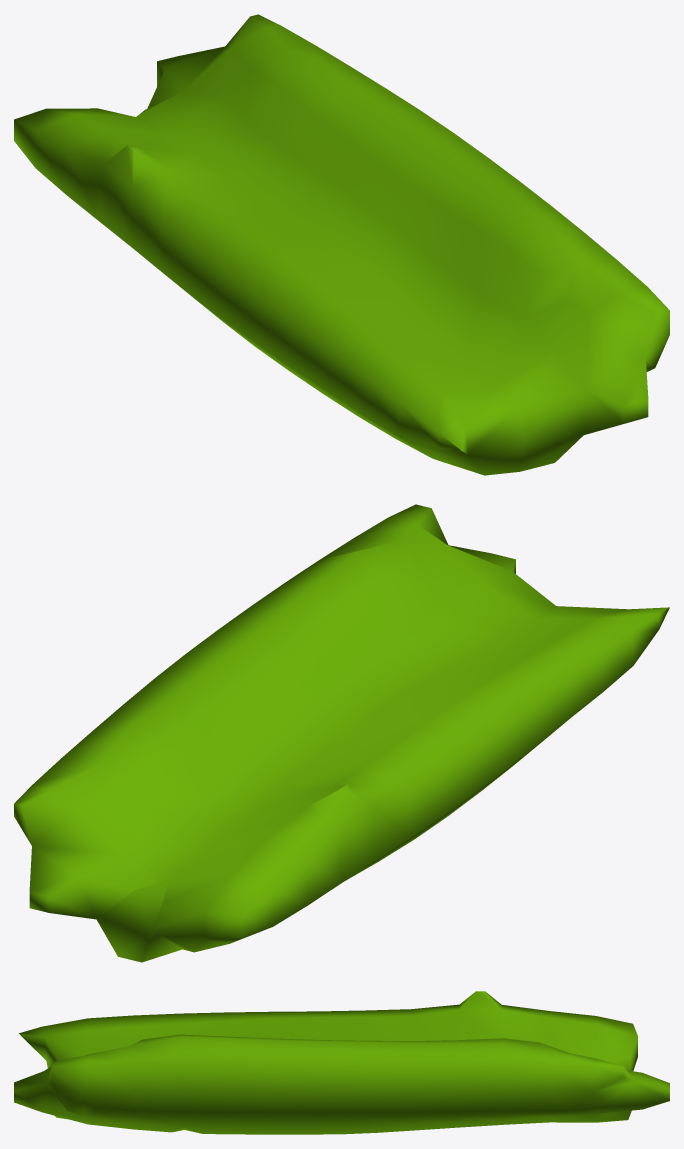
The model's file is veg03.glb.
3 renders of one model, top to bottom at view 1: azimuth 30°, elevation 25°; view 2: azimuth 150°, elevation 25°; view 3: azimuth 270°, elevation 25°, orthographic. The views are drawn at different scales.
Visible parts, largest first — view 1: 小青菜2.013; view 2: 小青菜2.013; view 3: 小青菜2.013.
Part boxes in pixels (x1,y1,x2,y2): 小青菜2.013: (14, 14, 669, 475); 小青菜2.013: (14, 504, 669, 962); 小青菜2.013: (14, 991, 669, 1134).
Bounding box in the file's own units: 0.3106 × 0.1864 × 0.9516.
